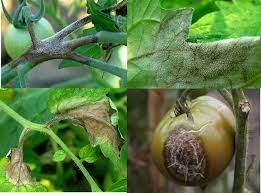tomato late blight: (151, 91, 256, 193)
